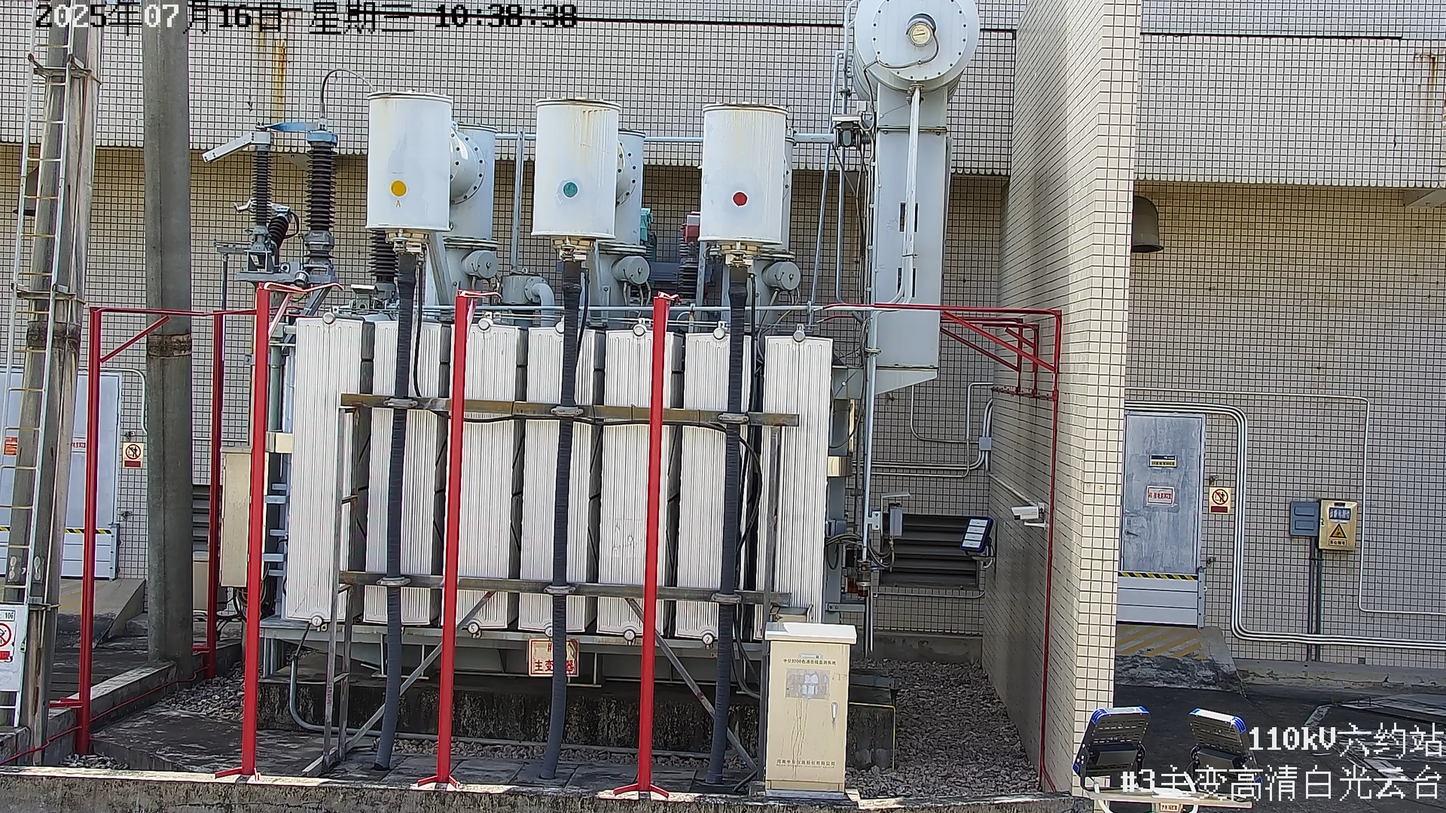MainTR: (201, 1, 981, 687)
